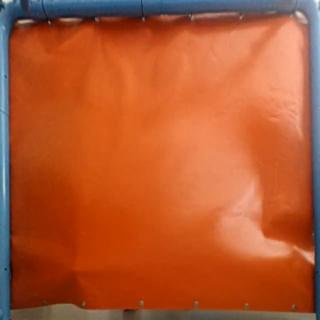Hit-hRxx: (72, 262, 84, 278)
